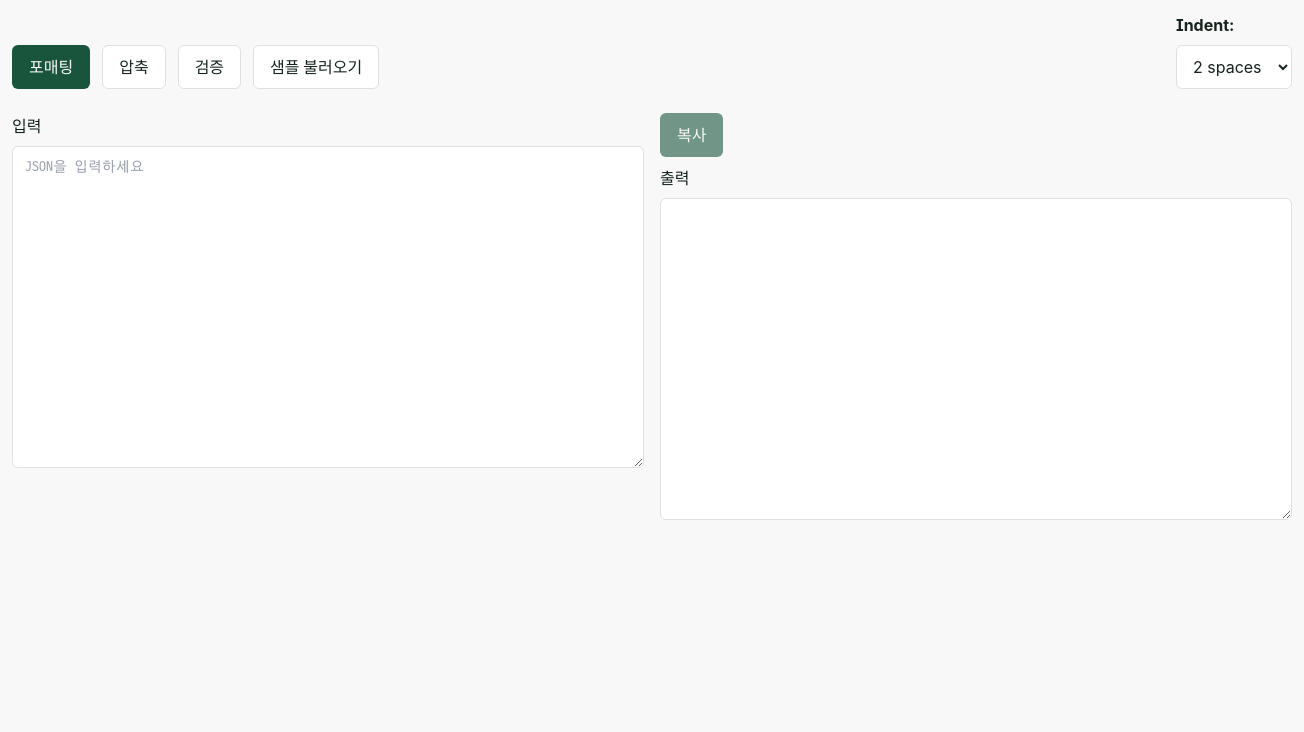
Test case: JsonFormatter › handles arrays correctly
This screenshot has width=1304, height=732.
Type "[1,2,3]" into the text box with placeholder "JSON을 입력하세요". click: (328, 307)
box: [12, 146, 644, 468]
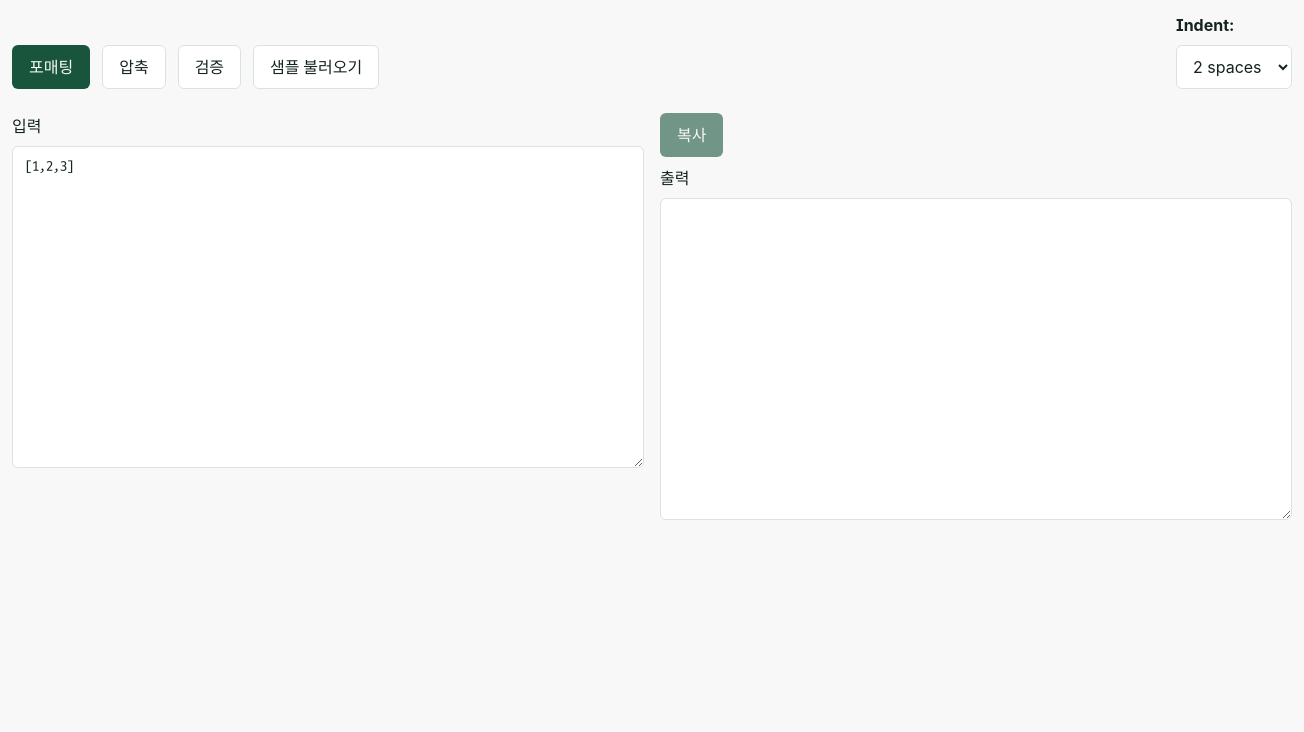
Click the button "포매팅". click: (51, 67)
box: [12, 45, 90, 89]
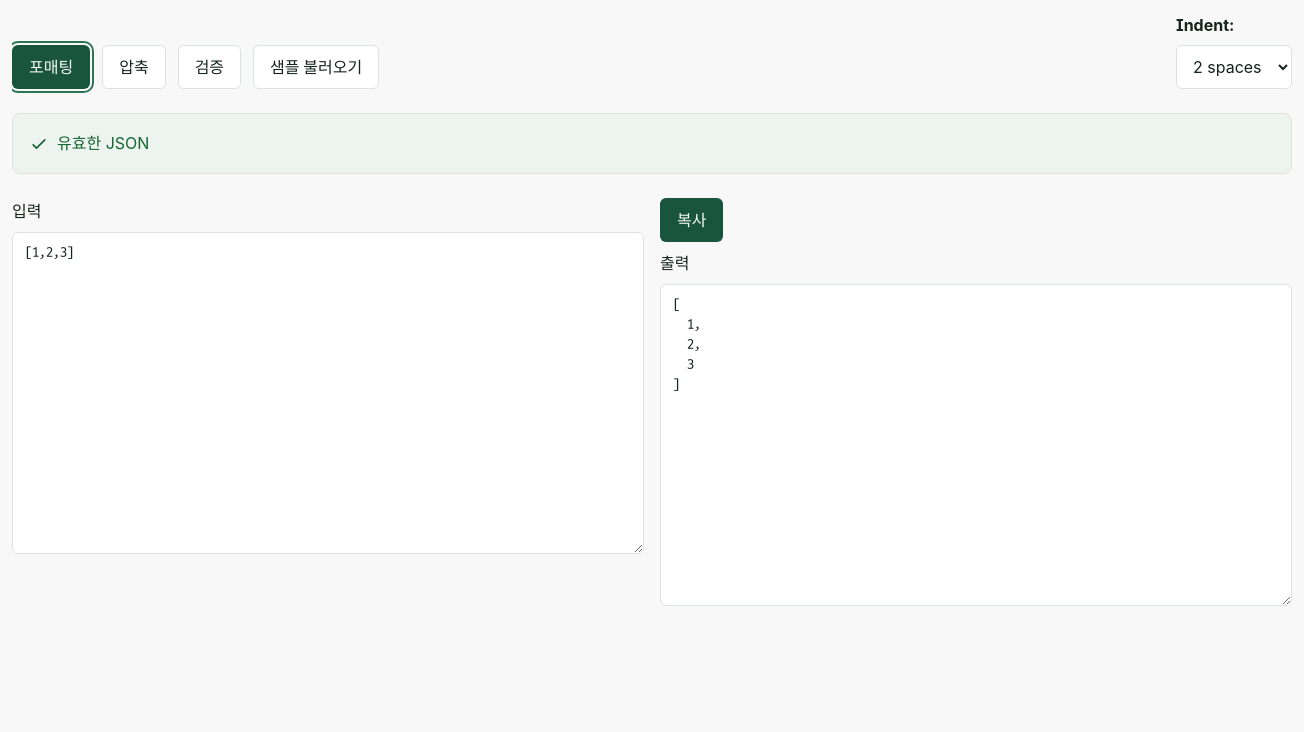
Result: the text "유효한 JSON" is shown at [29, 133, 149, 154]
